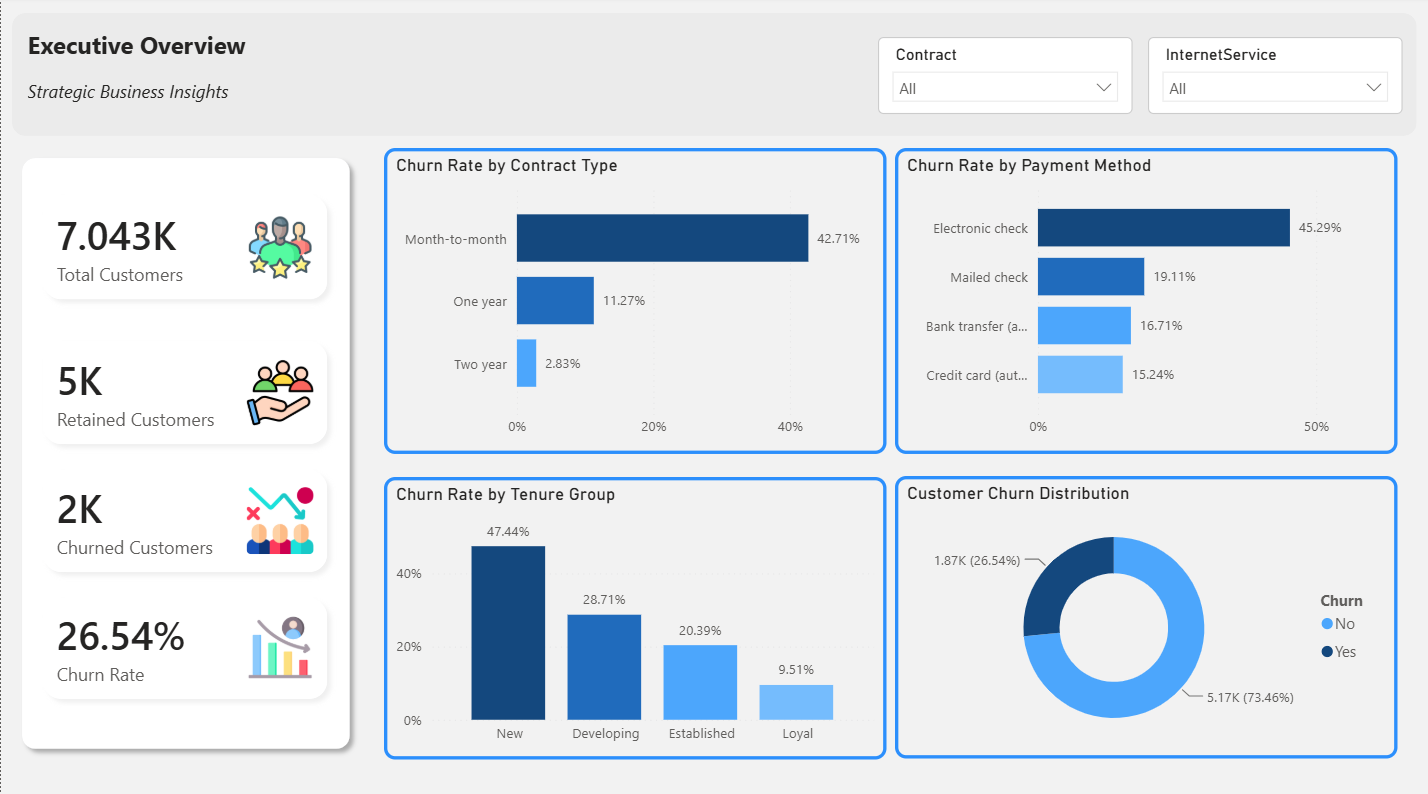

Layout of this report page (visuals, bound fields, positions):
{"tool":"powerbi","page":{"name":"Executive Overview","canvas":[1280,720],"ordinal":0},"visuals":[{"type":"shape","title":"Shape1","box":[9.6,135.1,311.4,547.1],"z":0},{"type":"shape","title":"Shape2","box":[9.6,14.4,1258,110.2],"z":500},{"type":"cardVisual","fields":{"Data":["Telco-Customer-Churn.Total Customers"]},"box":[8.9,148.5,312.1,151.6],"z":1000},{"type":"cardVisual","fields":{"Data":["Telco-Customer-Churn.Churned Customers"]},"box":[8.9,395,312.1,149.9],"z":2000},{"type":"cardVisual","fields":{"Data":["Telco-Customer-Churn.Retained Customers"]},"box":[8.9,279.7,312.1,150.7],"z":3000},{"type":"cardVisual","fields":{"Data":["Telco-Customer-Churn.Churn Rate"]},"box":[8.9,509.4,312.1,149],"z":4000},{"type":"donutChart","title":"Customer Churn Distribution","fields":{"Category":["Telco-Customer-Churn.Churn"],"Y":["Count(Telco-Customer-Churn.customerID)"]},"box":[800.6,429.1,450,253.4],"z":5000},{"type":"clusteredBarChart","title":"Churn Rate by Contract Type","fields":{"Category":["Telco-Customer-Churn.Contract"],"Y":["Telco-Customer-Churn.Churn Rate"]},"box":[342.7,135.4,450,273.6],"z":6000},{"type":"clusteredBarChart","title":"Churn Rate by Payment Method","fields":{"Category":["Telco-Customer-Churn.PaymentMethod"],"Y":["Telco-Customer-Churn.Churn Rate"]},"box":[800.6,135.4,450,273.6],"z":7000},{"type":"clusteredColumnChart","title":"Churn Rate by Tenure Group ","fields":{"Y":["Telco-Customer-Churn.Churn Rate"],"Category":["Telco-Customer-Churn.TenureGroup"]},"box":[342.7,430.1,450.5,253.4],"z":8000},{"type":"slicer","fields":{"Values":["Telco-Customer-Churn.Contract"]},"box":[785.6,35.4,228,69],"z":9000},{"type":"slicer","fields":{"Values":["Telco-Customer-Churn.InternetService"]},"box":[1027.1,35.4,228,69],"z":10000},{"type":"textbox","box":[19.2,23,389.9,92.9],"z":11000}]}

Visuals, with their boxes in screenshot pixels (x1, y1, x2, y2), scaled from the page's 1280x720 canvas onto the 1428x794 screenshot:
"Shape1" shape: (11, 149, 358, 752)
"Shape2" shape: (11, 16, 1414, 137)
cardVisual - Telco-Customer-Churn.Total Customers: (10, 164, 358, 331)
cardVisual - Telco-Customer-Churn.Churned Customers: (10, 436, 358, 601)
cardVisual - Telco-Customer-Churn.Retained Customers: (10, 308, 358, 475)
cardVisual - Telco-Customer-Churn.Churn Rate: (10, 562, 358, 726)
"Customer Churn Distribution" donutChart: (893, 473, 1395, 753)
"Churn Rate by Contract Type" clusteredBarChart: (382, 149, 884, 451)
"Churn Rate by Payment Method" clusteredBarChart: (893, 149, 1395, 451)
"Churn Rate by Tenure Group " clusteredColumnChart: (382, 474, 885, 754)
slicer - Telco-Customer-Churn.Contract: (876, 39, 1131, 115)
slicer - Telco-Customer-Churn.InternetService: (1146, 39, 1400, 115)
textbox: (21, 25, 456, 128)
